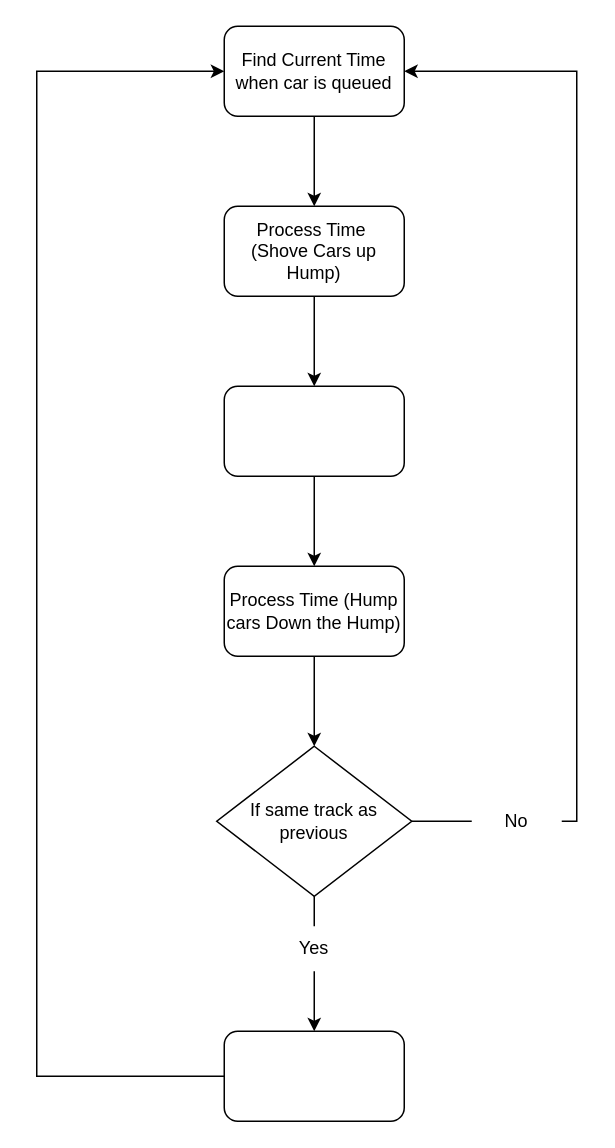
Some shapes in this 615 by 1148 pixel diagram are drawn without their labels. Each missing label, with the box of its shape:
Process Time (Uncouple Cars): (223, 385, 404, 476)
Process Time For first car to couple: (223, 1030, 404, 1121)
